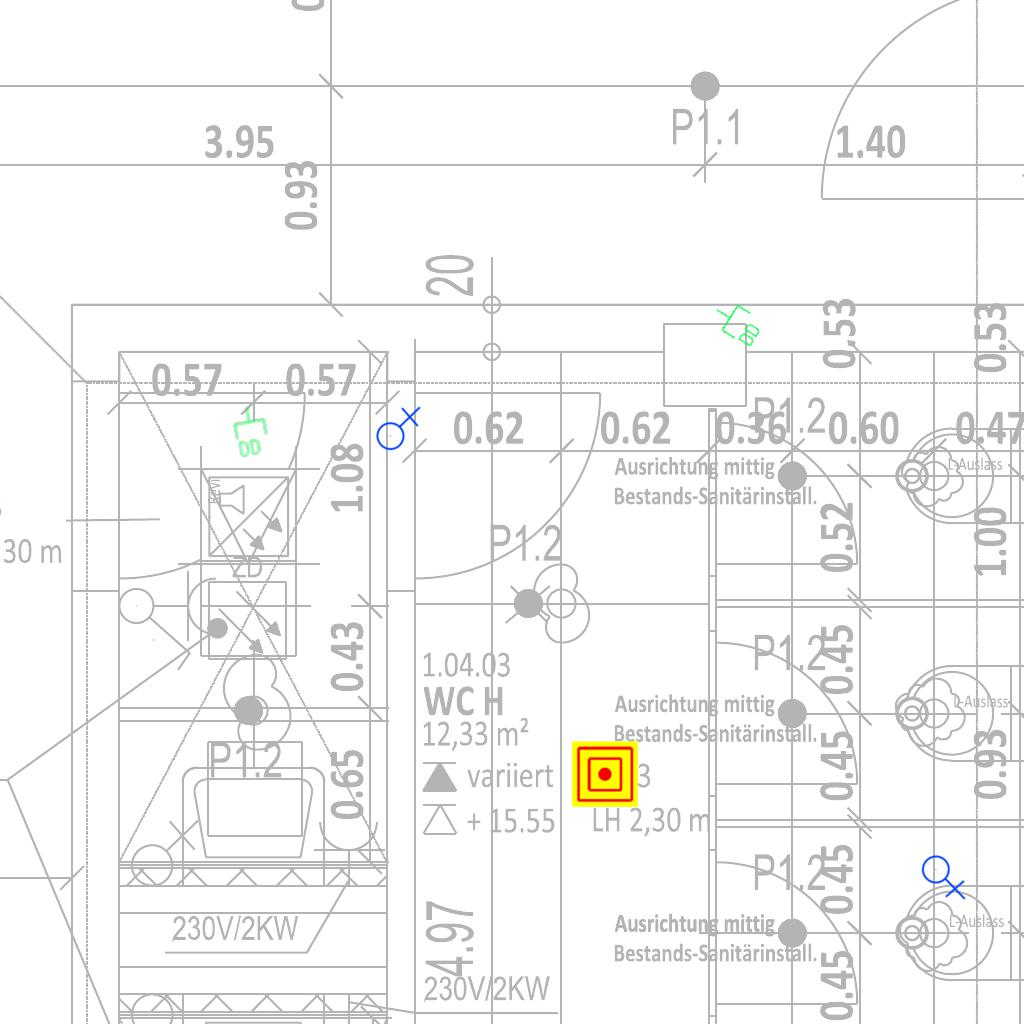Datenanschluss_zweifach: (706, 295, 769, 351), (229, 402, 272, 460)
Elektroanschluss_allgemein_230V_Geraeteanschlussdose_230V: (372, 404, 421, 451), (921, 851, 968, 900)
NAM-Nichtautomatischer_Melder: (572, 741, 638, 807)
